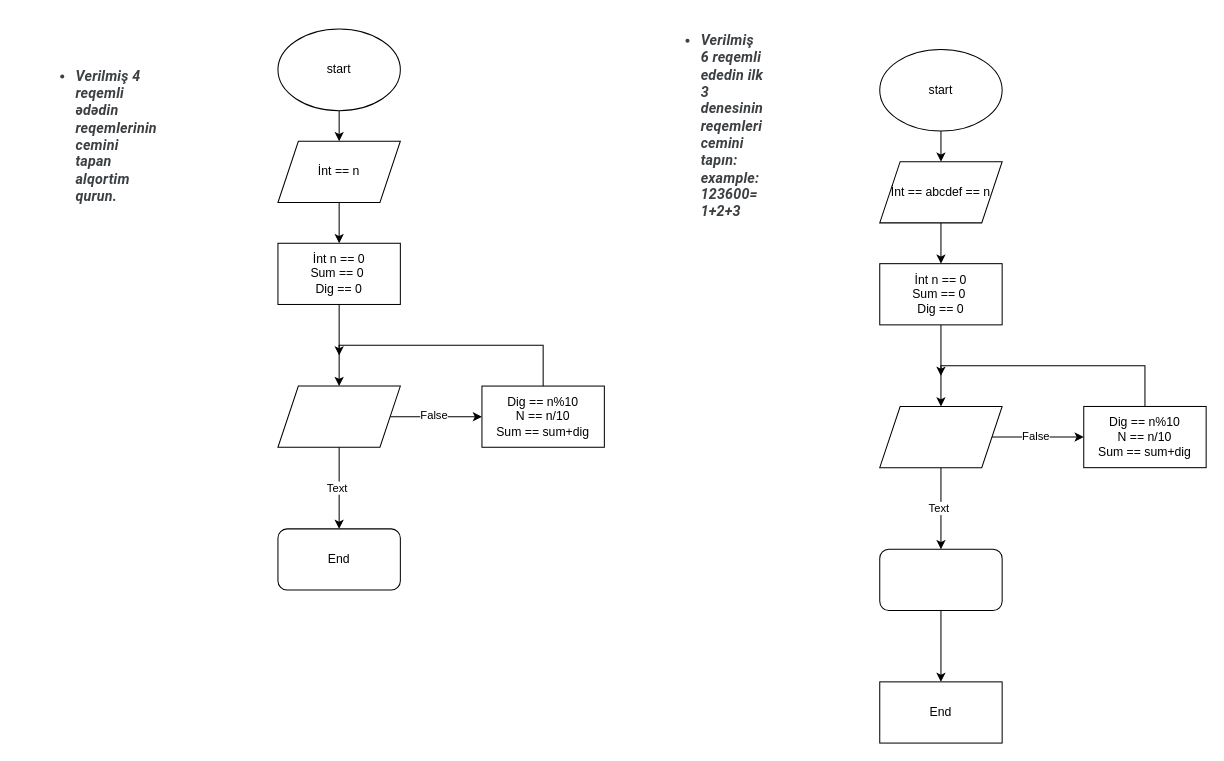
The diagram is 1224 pixels wide and 761 high, and some of its shapes have lost their labels. The shapes that lost their labels are listed below. From the top down, each one's centre as x and y in pixels, then its label:
At point (338, 416): "İF n=0".
At point (940, 436): "İF abc == 0".
At point (940, 579): "Sum == a+b+c".
